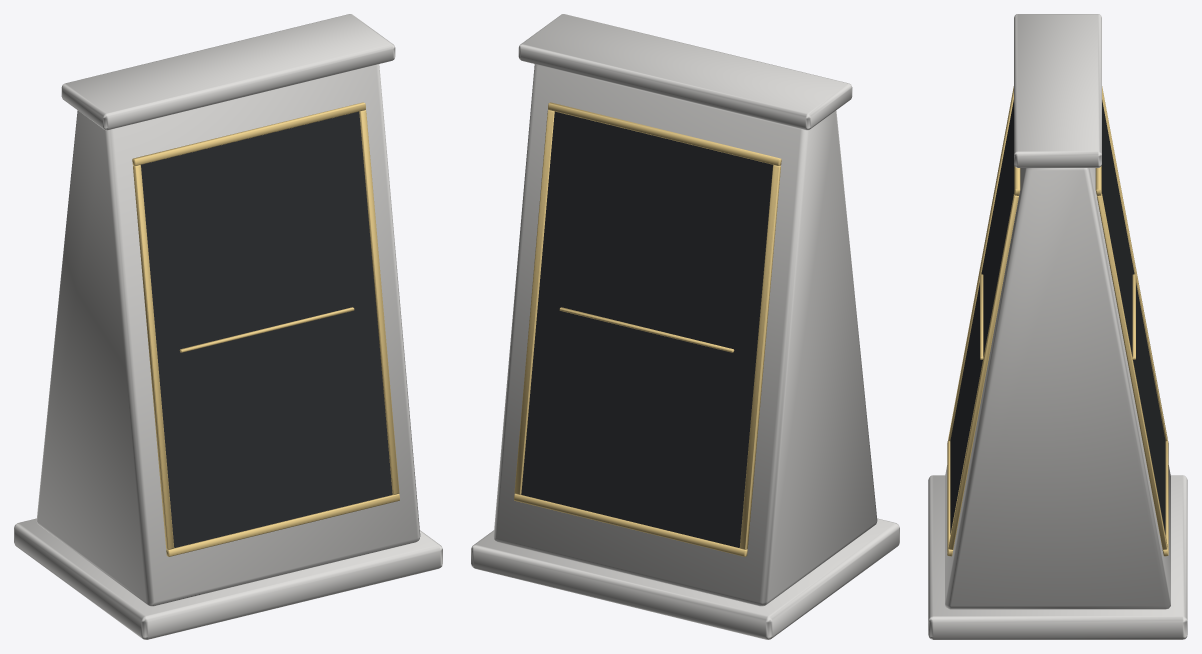
Rendered from ScoreBoard.fbx.
The picture shows the model from 3 angles, left to right: view 1: azimuth 30°, elevation 25°; view 2: azimuth 150°, elevation 25°; view 3: azimuth 270°, elevation 25°; orthographic projection.
Parts seen in each view (by area): view 1: ScoreBoard; view 2: ScoreBoard; view 3: ScoreBoard.
Boxes of the visible parts, x1,y1,x2,y2 form: ScoreBoard: [14, 14, 442, 639]; ScoreBoard: [471, 14, 899, 639]; ScoreBoard: [928, 14, 1187, 639].
Bounding box in the file's own units: 0.66 × 1.04 × 0.5.
